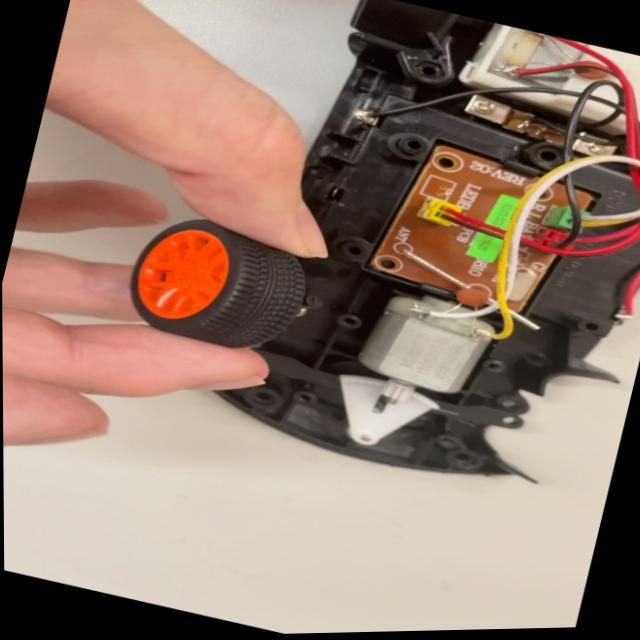motor: (337, 273, 509, 429)
wheel: (107, 196, 338, 382)
